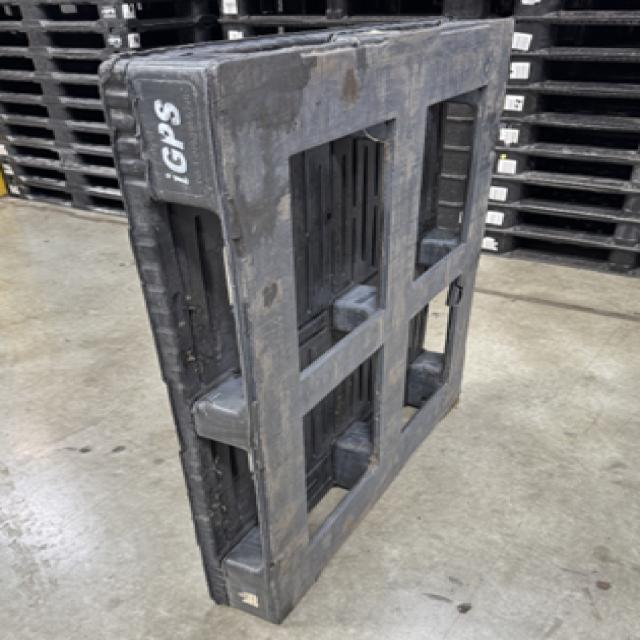igps: (96, 13, 518, 624), (466, 0, 638, 290), (0, 0, 215, 226)
